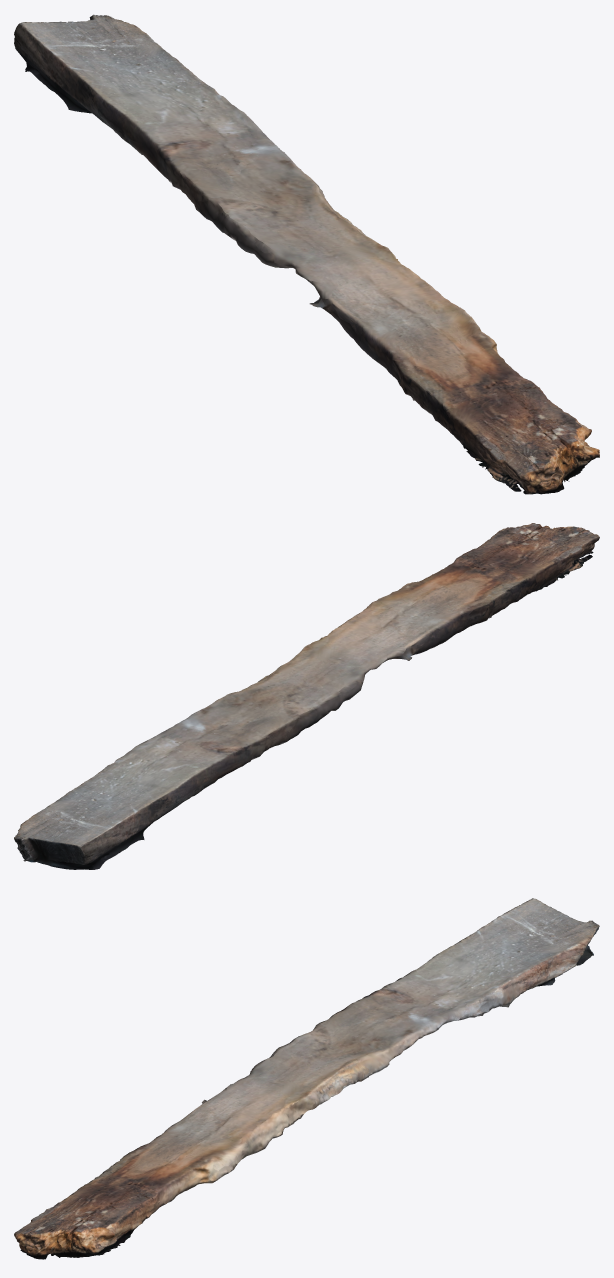
3 renders of one model, top to bottom at view 1: azimuth 30°, elevation 25°; view 2: azimuth 150°, elevation 25°; view 3: azimuth 330°, elevation 25°, orthographic. The views are drawn at different scales.
Size of the model in its own units: 0.00973 by 0.0022 by 0.0576.
1 material, 1 textured.
